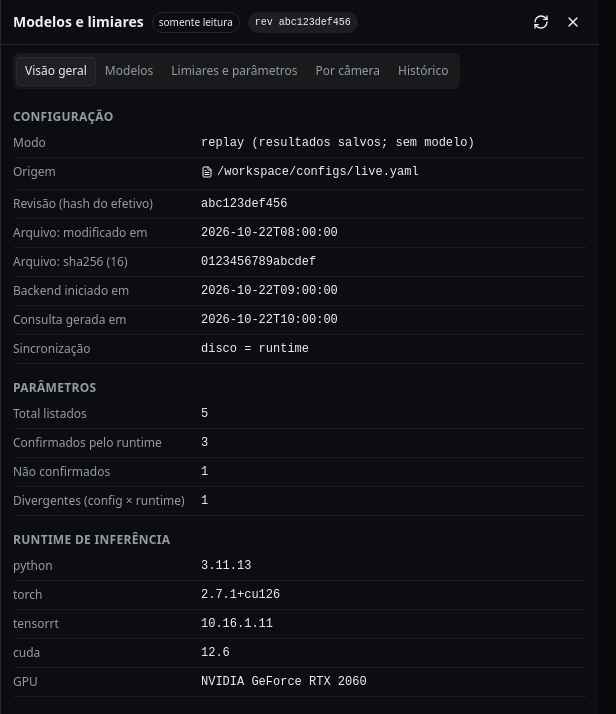
Test: ProcessingPanel (somente leitura) › modo replay: informa que nenhum modelo executa
This screenshot has width=616, height=714.
What coordinates should you click on to do the following:
click the tab "Modelos"
I would click on:
 (129, 71)
Its box is [96,56,162,86].
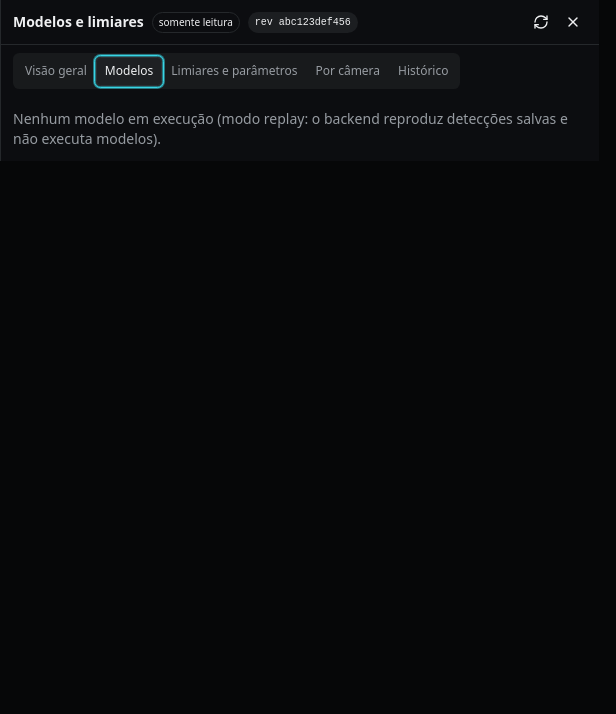
Expected: the text with test id "tab-models" shows "Nenhum modelo em execução", [13,109,214,128]
